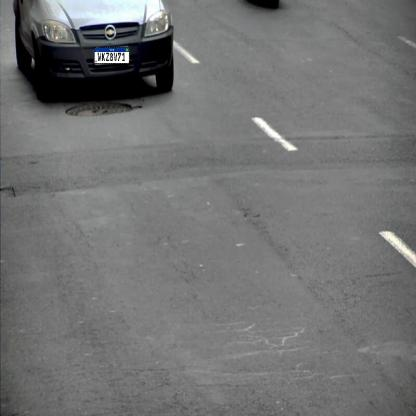PlacaM: (94, 47, 130, 64)
